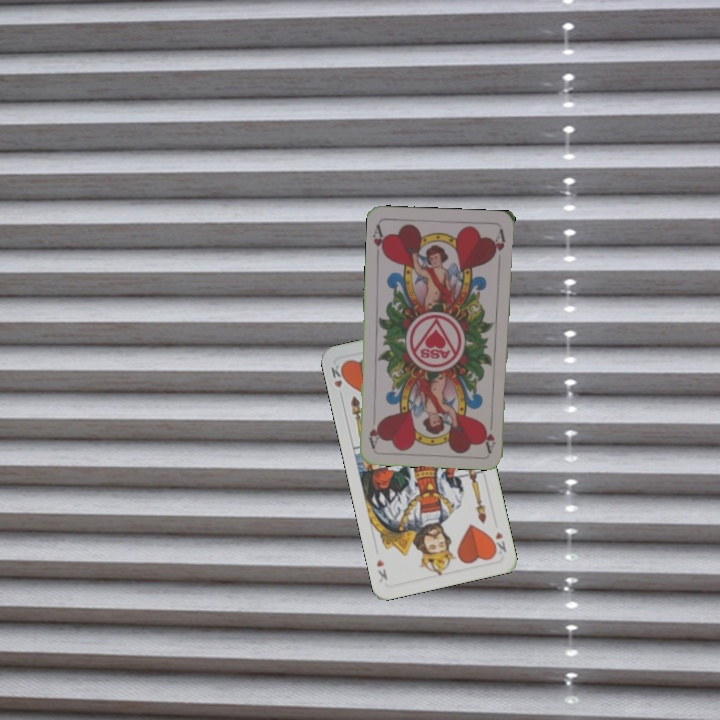HA: (369, 220, 389, 261), (481, 422, 498, 454)
HK: (327, 359, 349, 391), (487, 527, 509, 557)
